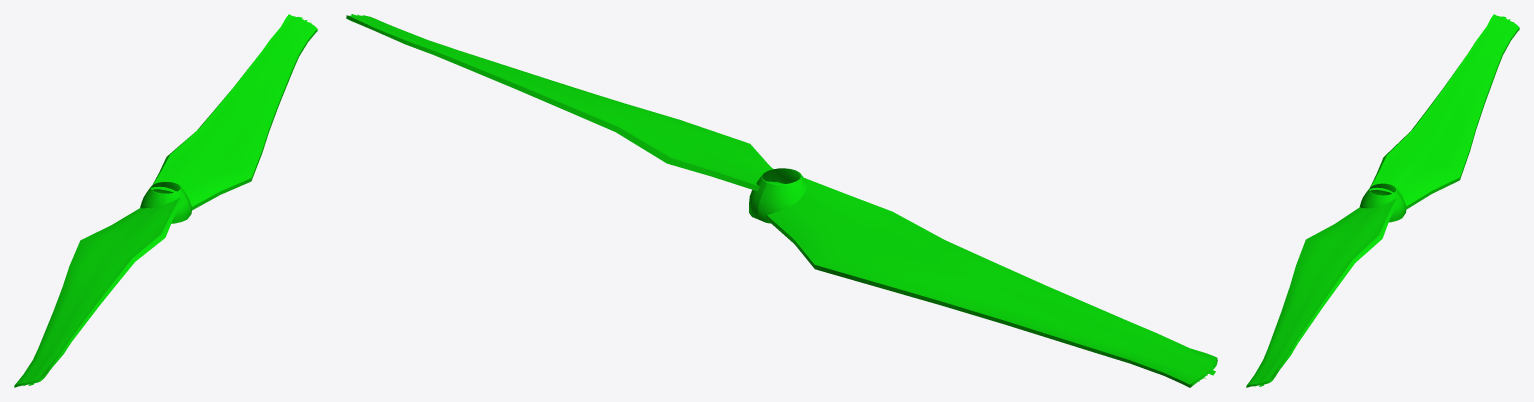
The model's file is propeller_5.fbx.
3 views of the same model, side by side, from view 1: azimuth 90°, elevation 25°; view 2: azimuth 150°, elevation 25°; view 3: azimuth 270°, elevation 25° (orthographic). The views are drawn at different scales.
Parts seen in each view (by area): view 1: polySurface13; view 2: polySurface13; view 3: polySurface13.
Part boxes in pixels (x1,y1,x2,y2): polySurface13: (14, 14, 317, 387); polySurface13: (346, 14, 1217, 387); polySurface13: (1246, 14, 1519, 387).
Bounding box in the file's own units: 17.81 × 0.746 × 5.89.
